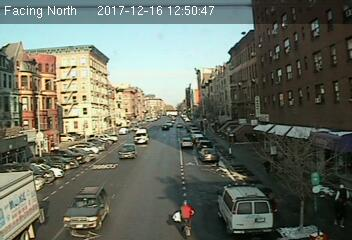bicycle: (172, 199, 197, 239)
car: (63, 185, 108, 228), (198, 148, 218, 162), (118, 144, 137, 158), (180, 137, 192, 147)
police: (216, 182, 275, 234)
